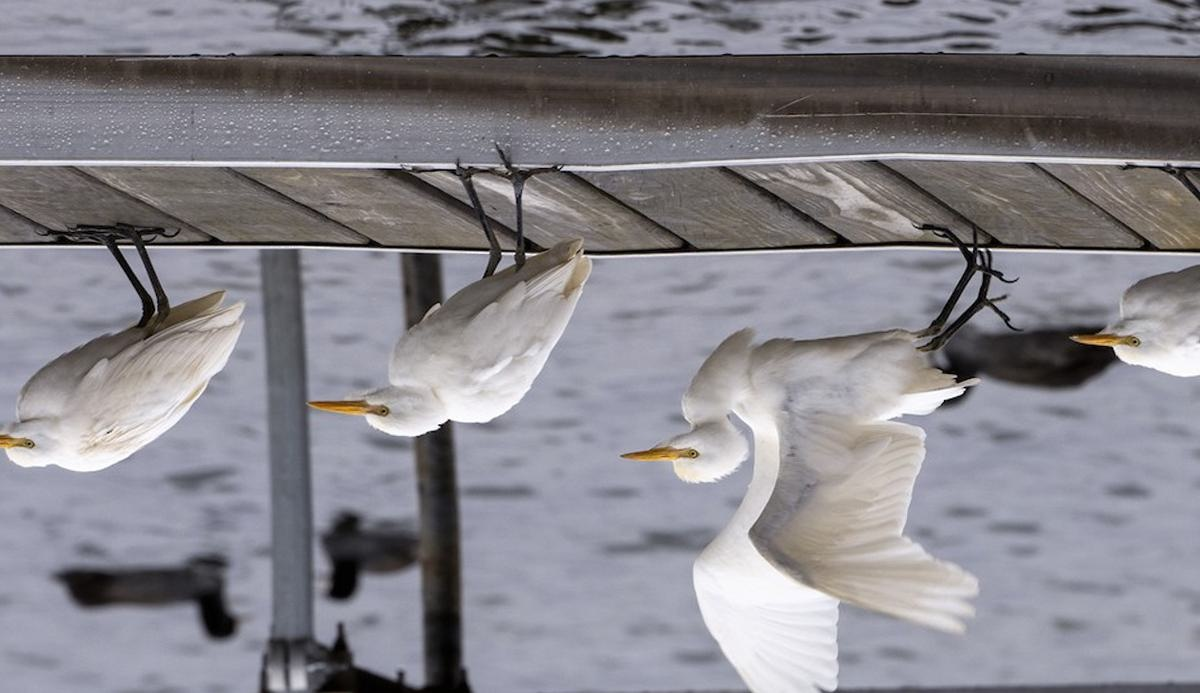egret: (597, 180, 1011, 692), (300, 152, 603, 451), (1, 201, 274, 490), (1058, 262, 1200, 395)
